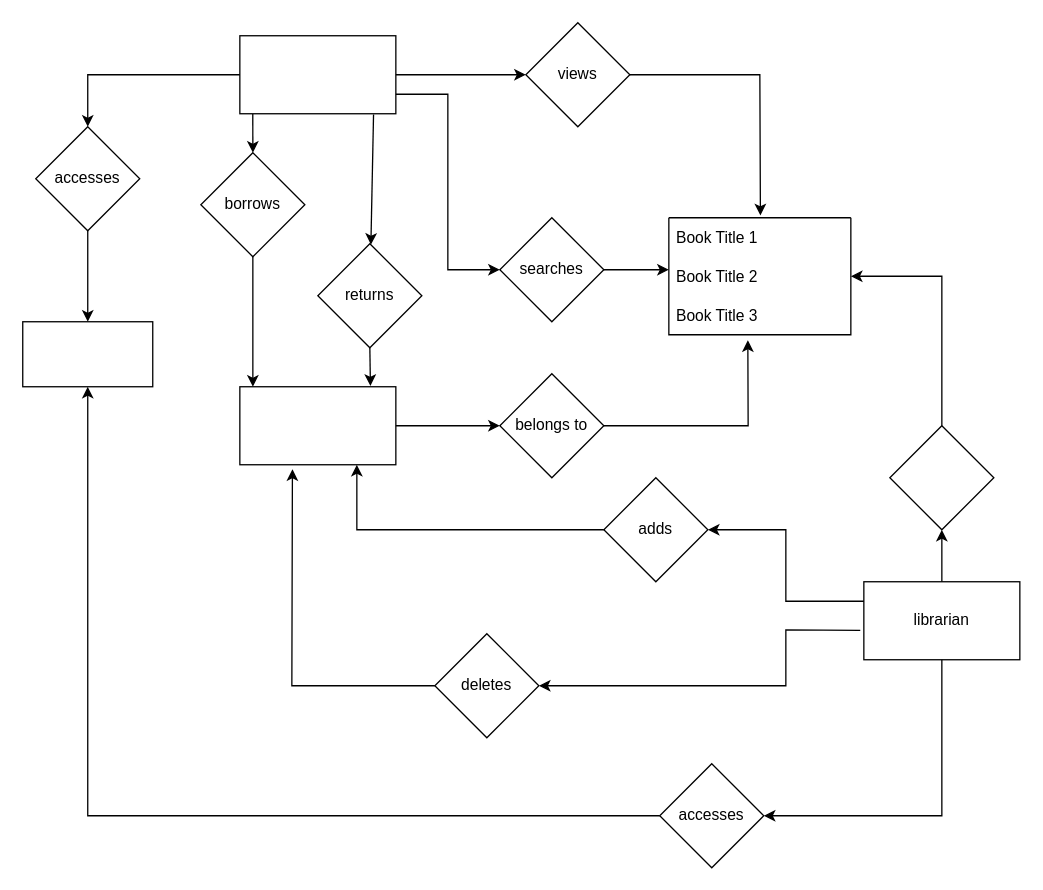
Image size: 1043x890. Some labels were removed from this diagram. Here are the shapes that lost their labels. From the top down, the box of each, then its label:
(239, 34, 396, 114): library patron
(668, 216, 851, 335): List
(21, 320, 153, 387): account
(239, 385, 396, 465): book
(889, 424, 994, 530): updates
